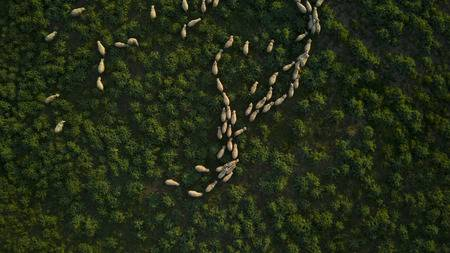sheep: (53, 118, 66, 137), (94, 40, 108, 56), (187, 15, 202, 29), (266, 71, 280, 86), (247, 79, 260, 95), (208, 59, 221, 75), (69, 5, 86, 17), (95, 57, 107, 74), (235, 124, 249, 138), (223, 34, 236, 49), (147, 4, 159, 20), (163, 177, 180, 188), (194, 163, 211, 174), (240, 39, 251, 56), (265, 37, 276, 54), (127, 34, 140, 48), (43, 91, 58, 103), (42, 29, 57, 41), (186, 189, 204, 199), (214, 145, 226, 160), (213, 48, 225, 63), (94, 76, 105, 92), (294, 30, 307, 43), (178, 1, 192, 13), (273, 94, 287, 106), (242, 101, 254, 115), (213, 75, 224, 90), (178, 23, 188, 39), (230, 142, 240, 158), (204, 180, 217, 192), (113, 39, 126, 51), (212, 125, 223, 139), (218, 107, 227, 122), (286, 83, 295, 97), (198, 1, 208, 13), (223, 173, 235, 182), (210, 1, 221, 8)
